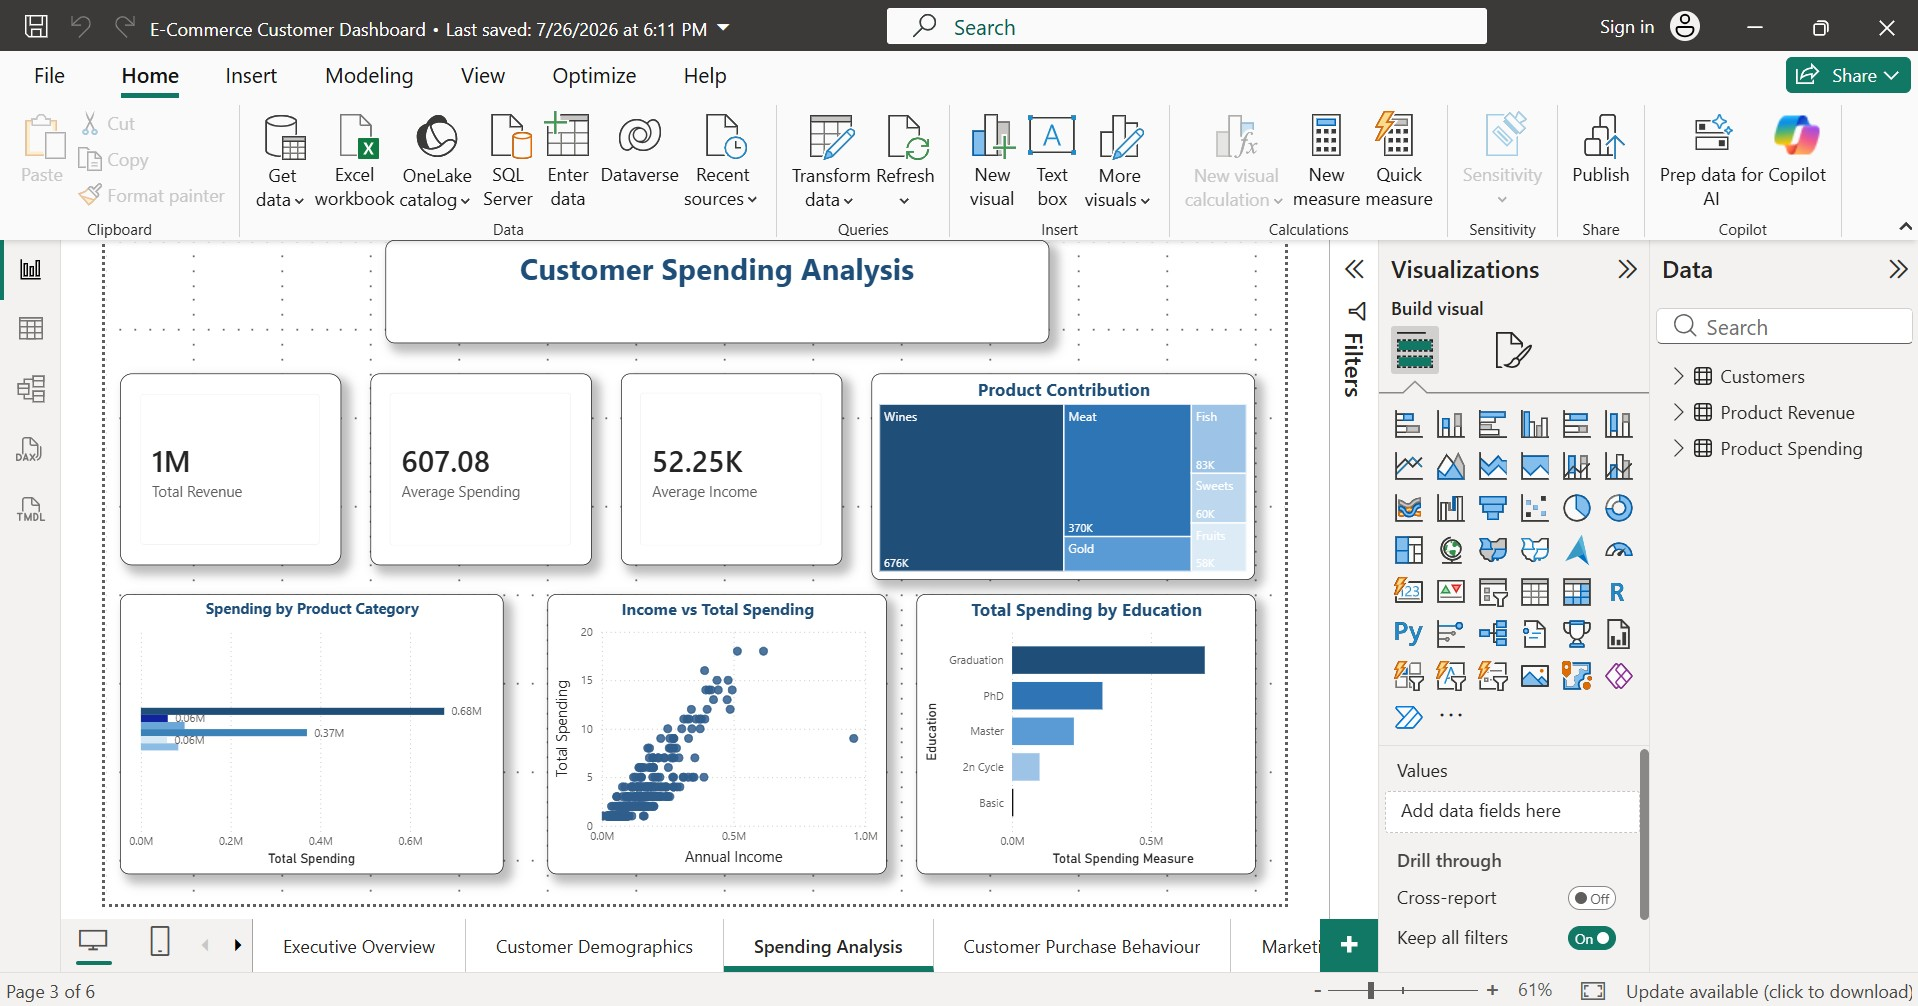

Layout of this report page (visuals, bound fields, positions):
{"tool":"powerbi","page":{"name":"Spending Analysis","canvas":[1280,720],"ordinal":2},"visuals":[{"type":"textbox","box":[304,0,720,112],"z":0},{"type":"cardVisual","title":"Total Revenue","fields":{"Data":["Customers.Total Revenue"]},"box":[16,144,240,208],"z":1000},{"type":"cardVisual","fields":{"Data":["Customers.Average Spending"]},"box":[288,144,240,208],"z":2000},{"type":"cardVisual","fields":{"Data":["Customers.Average Income"]},"box":[560,144,240,208],"z":3000},{"type":"clusteredBarChart","title":"Spending by Product Category","fields":{"Y":["Sum(Customers.MntWines)","Sum(Customers.MntSweetProducts)","Sum(Customers.MntGoldProds)","Sum(Customers.MntMeatProducts)","Sum(Customers.MntFruits)","Sum(Customers.MntFishProducts)"]},"box":[16,384,416,304],"z":4000},{"type":"scatterChart","title":"Income vs Total Spending","fields":{"X":["Sum(Customers.Income)"],"Category":["Customers.Total Spending"],"Y":["CountNonNull(Customers.ID)"]},"box":[480,384,368,304],"z":5000},{"type":"treemap","title":"Product Contribution","fields":{"Group":["Product Spending.Product Category"],"Values":["Sum(Product Spending.Spending)"]},"box":[832,144,416,224],"z":6000},{"type":"clusteredBarChart","title":"Total Spending by Education","fields":{"Category":["Customers.Education"],"Y":["Customers.Total Spending Measure"]},"box":[880,384,368,304],"z":7000}]}

Visuals, with their boxes on the page's 1280x720 design canvas (x1, y1, x2, y2). These are canvas units, not pixel positions in the 1918x1006 screenshot, which may show the page scaled, cropped or inside an application window:
textbox: 304 0 1024 112
"Total Revenue" cardVisual: 16 144 256 352
cardVisual - Customers.Average Spending: 288 144 528 352
cardVisual - Customers.Average Income: 560 144 800 352
"Spending by Product Category" clusteredBarChart: 16 384 432 688
"Income vs Total Spending" scatterChart: 480 384 848 688
"Product Contribution" treemap: 832 144 1248 368
"Total Spending by Education" clusteredBarChart: 880 384 1248 688
